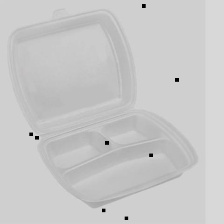foam_box: (1, 3, 204, 212)
